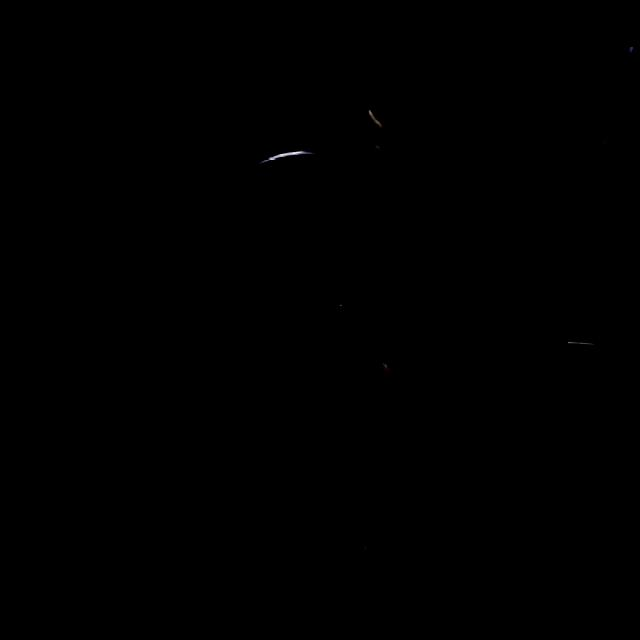barbell: (195, 133, 442, 379)
